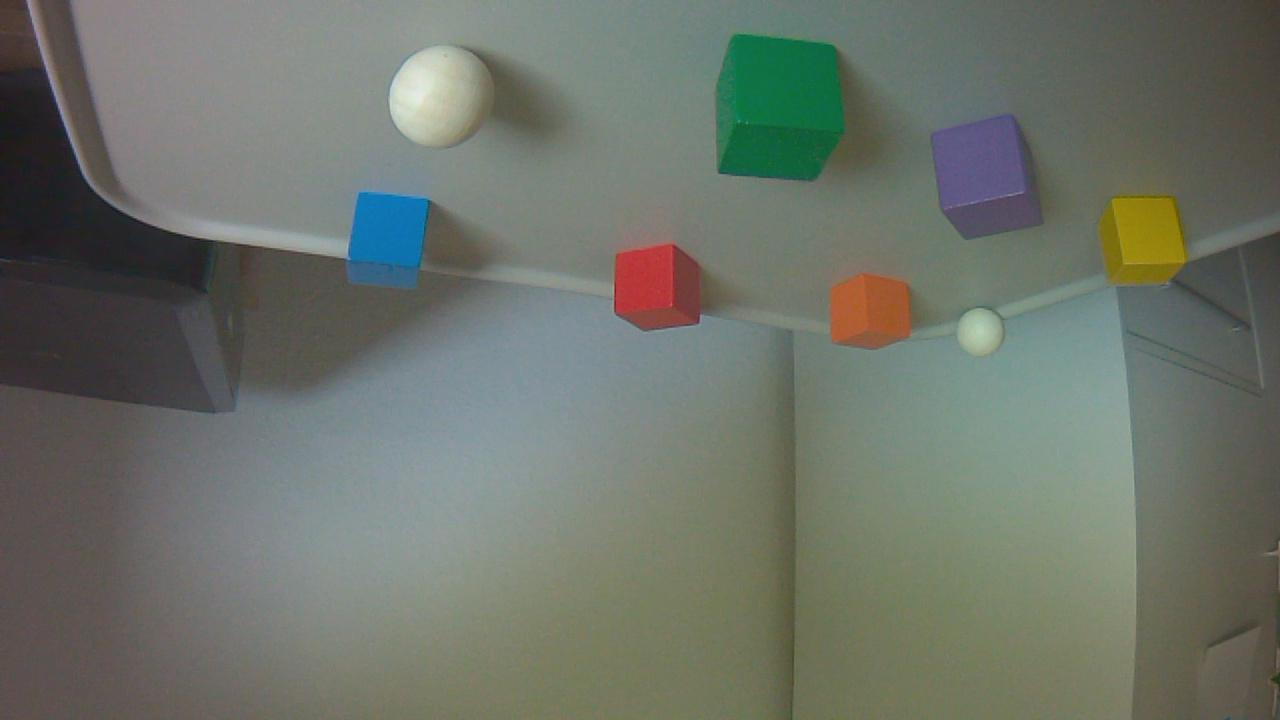ball: (386, 46, 495, 146), (959, 304, 1005, 357)
cube_blue: (345, 189, 431, 290)
cube_green: (714, 36, 840, 182)
cube_orange: (826, 277, 910, 349)
cube_purple: (931, 115, 1045, 238)
cube_red: (611, 242, 705, 329)
cube_yellow: (1102, 197, 1183, 287)
